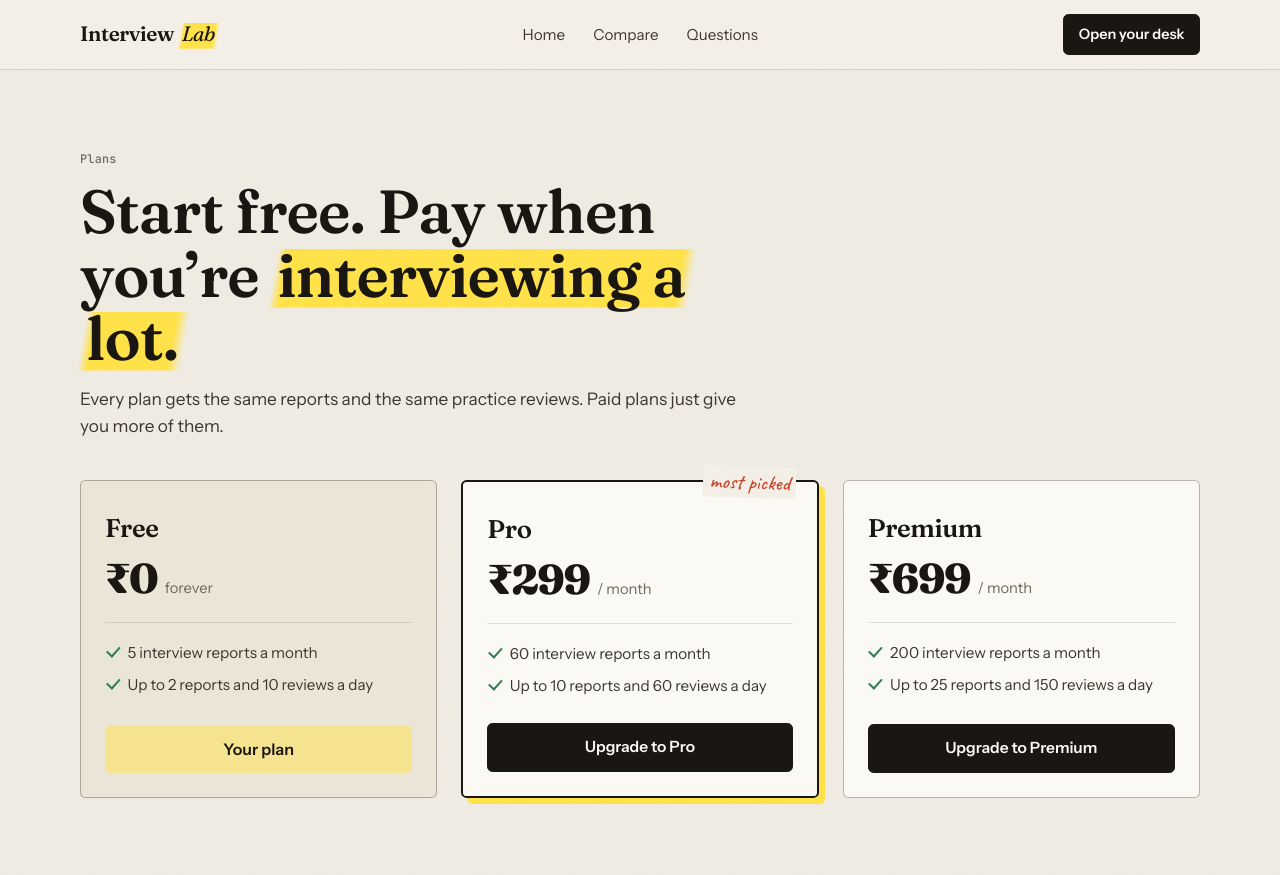
Test: checkout from Free › explains a 503 from the server
Click the button "Upgrade to Pro": click(640, 747) top-left (487, 723), bottom-right (793, 772)
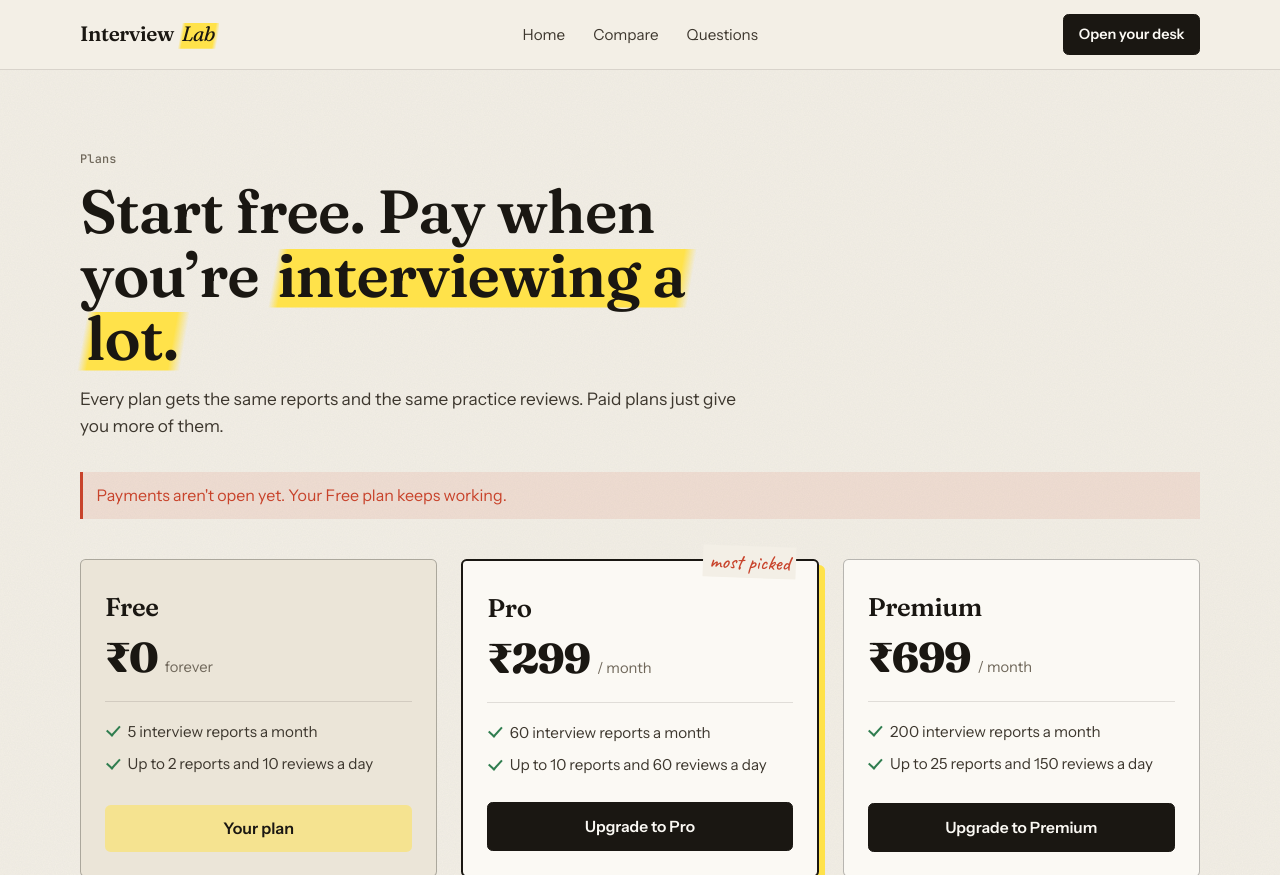
Result: the message shows "Payments aren't open yet" at top-left (97, 485), bottom-right (507, 505)
